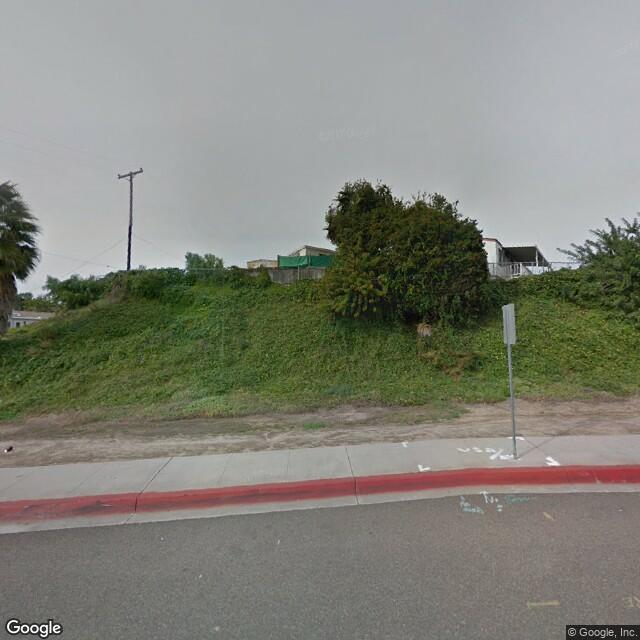litter: (1, 446, 16, 454)
